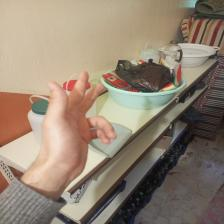three: (43, 70, 117, 185)
